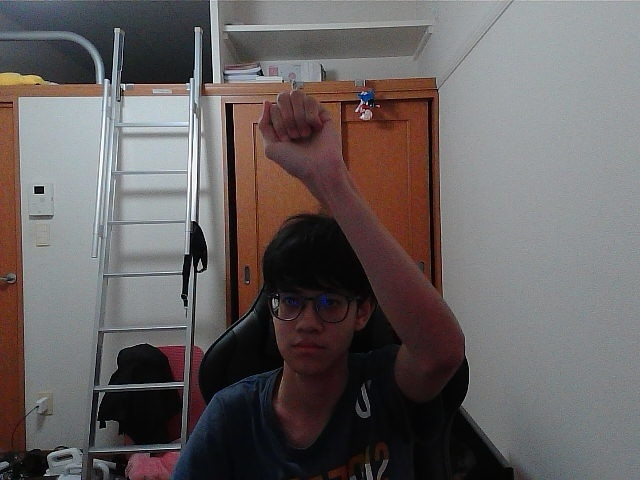closed_palm: (264, 97, 322, 162)
